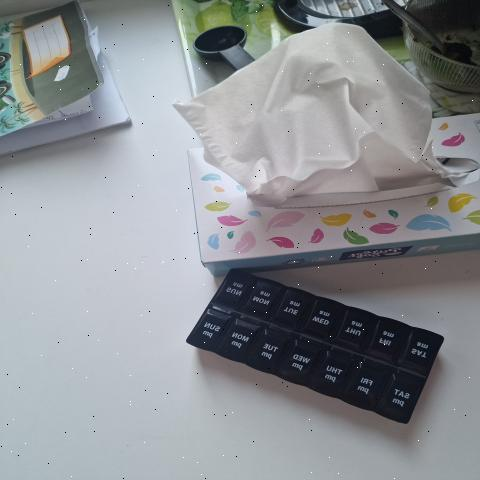PillBox: (163, 260, 456, 425)
